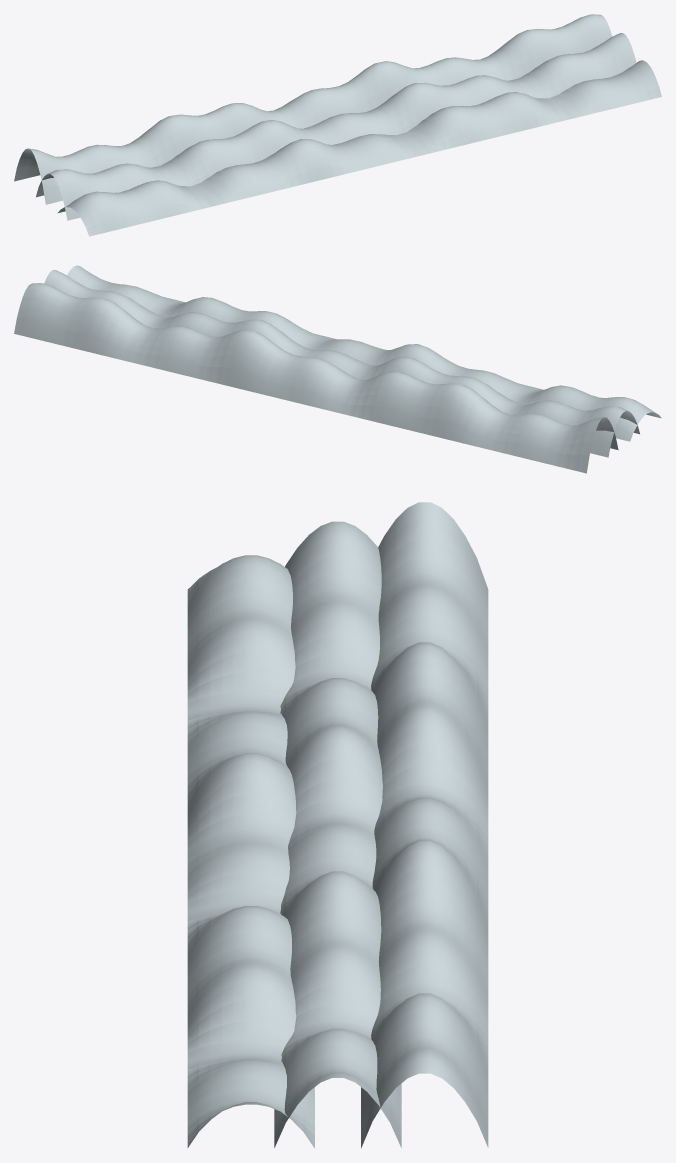
Rendered from distant_ridges.glb.
3 views of the same model, one above another, from view 1: azimuth 30°, elevation 25°; view 2: azimuth 150°, elevation 25°; view 3: azimuth 270°, elevation 25° (orthographic). The views are drawn at different scales.
Visible parts, largest first — view 1: ENV_R5_Snow; view 2: ENV_R5_Snow; view 3: ENV_R5_Snow.
Part boxes in pixels (x1=…): ENV_R5_Snow: x1=14, y1=14, x2=661, y2=236; ENV_R5_Snow: x1=14, y1=265, x2=661, y2=473; ENV_R5_Snow: x1=187, y1=502, x2=488, y2=1148.
Bounding box in the file's own units: 1600 × 118 × 364.
1 material, 1 textured.
